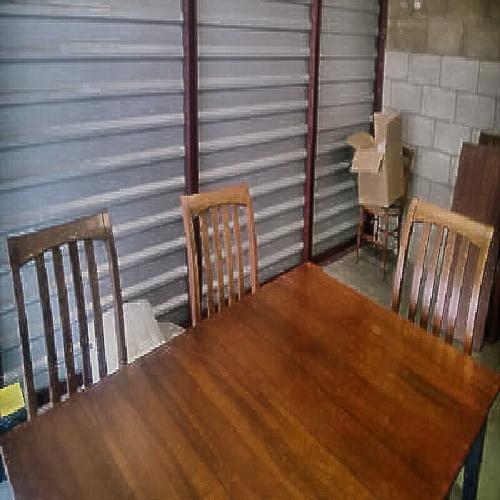chair: (11, 223, 130, 409), (392, 192, 493, 355), (171, 193, 272, 313)
table: (21, 283, 473, 487)
